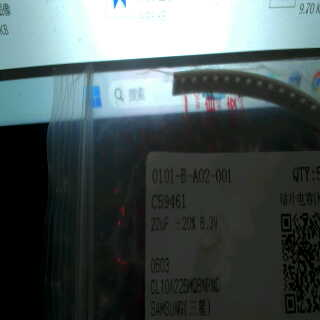22uF: (147, 211, 170, 234)
